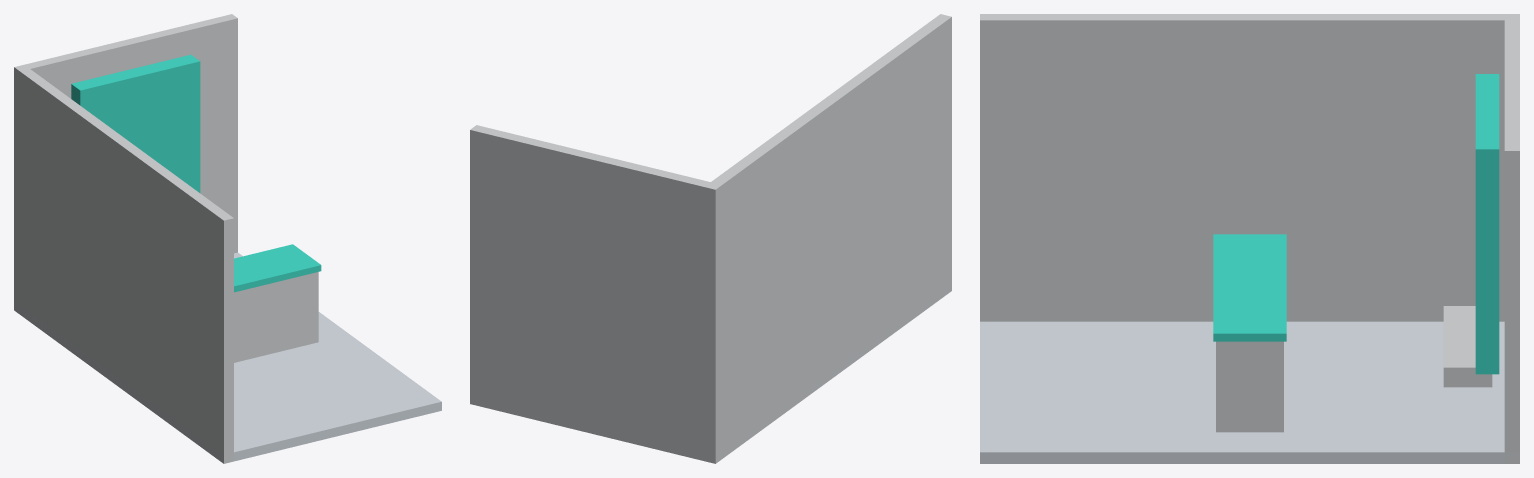
3 renders of one model, left to right at view 1: azimuth 30°, elevation 25°; view 2: azimuth 150°, elevation 25°; view 3: azimuth 270°, elevation 25°, orthographic. The views are drawn at different scales.
Parts seen in each view (by area): view 1: Exhibition Booth Concept; view 2: Exhibition Booth Concept; view 3: Exhibition Booth Concept.
Part boxes in pixels (x1=…): Exhibition Booth Concept: x1=14, y1=14, x2=441, y2=463; Exhibition Booth Concept: x1=470, y1=14, x2=951, y2=463; Exhibition Booth Concept: x1=980, y1=14, x2=1519, y2=463.
Bounding box in the file's own units: 3 × 3.2 × 5.
